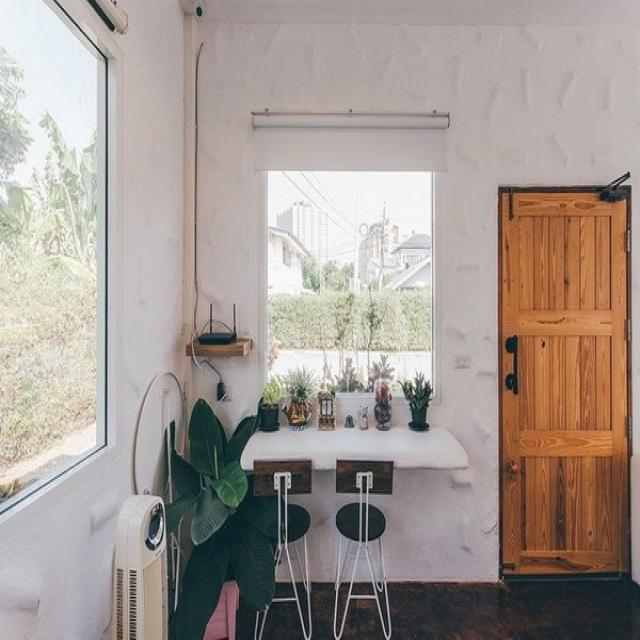table: (242, 402, 482, 533)
